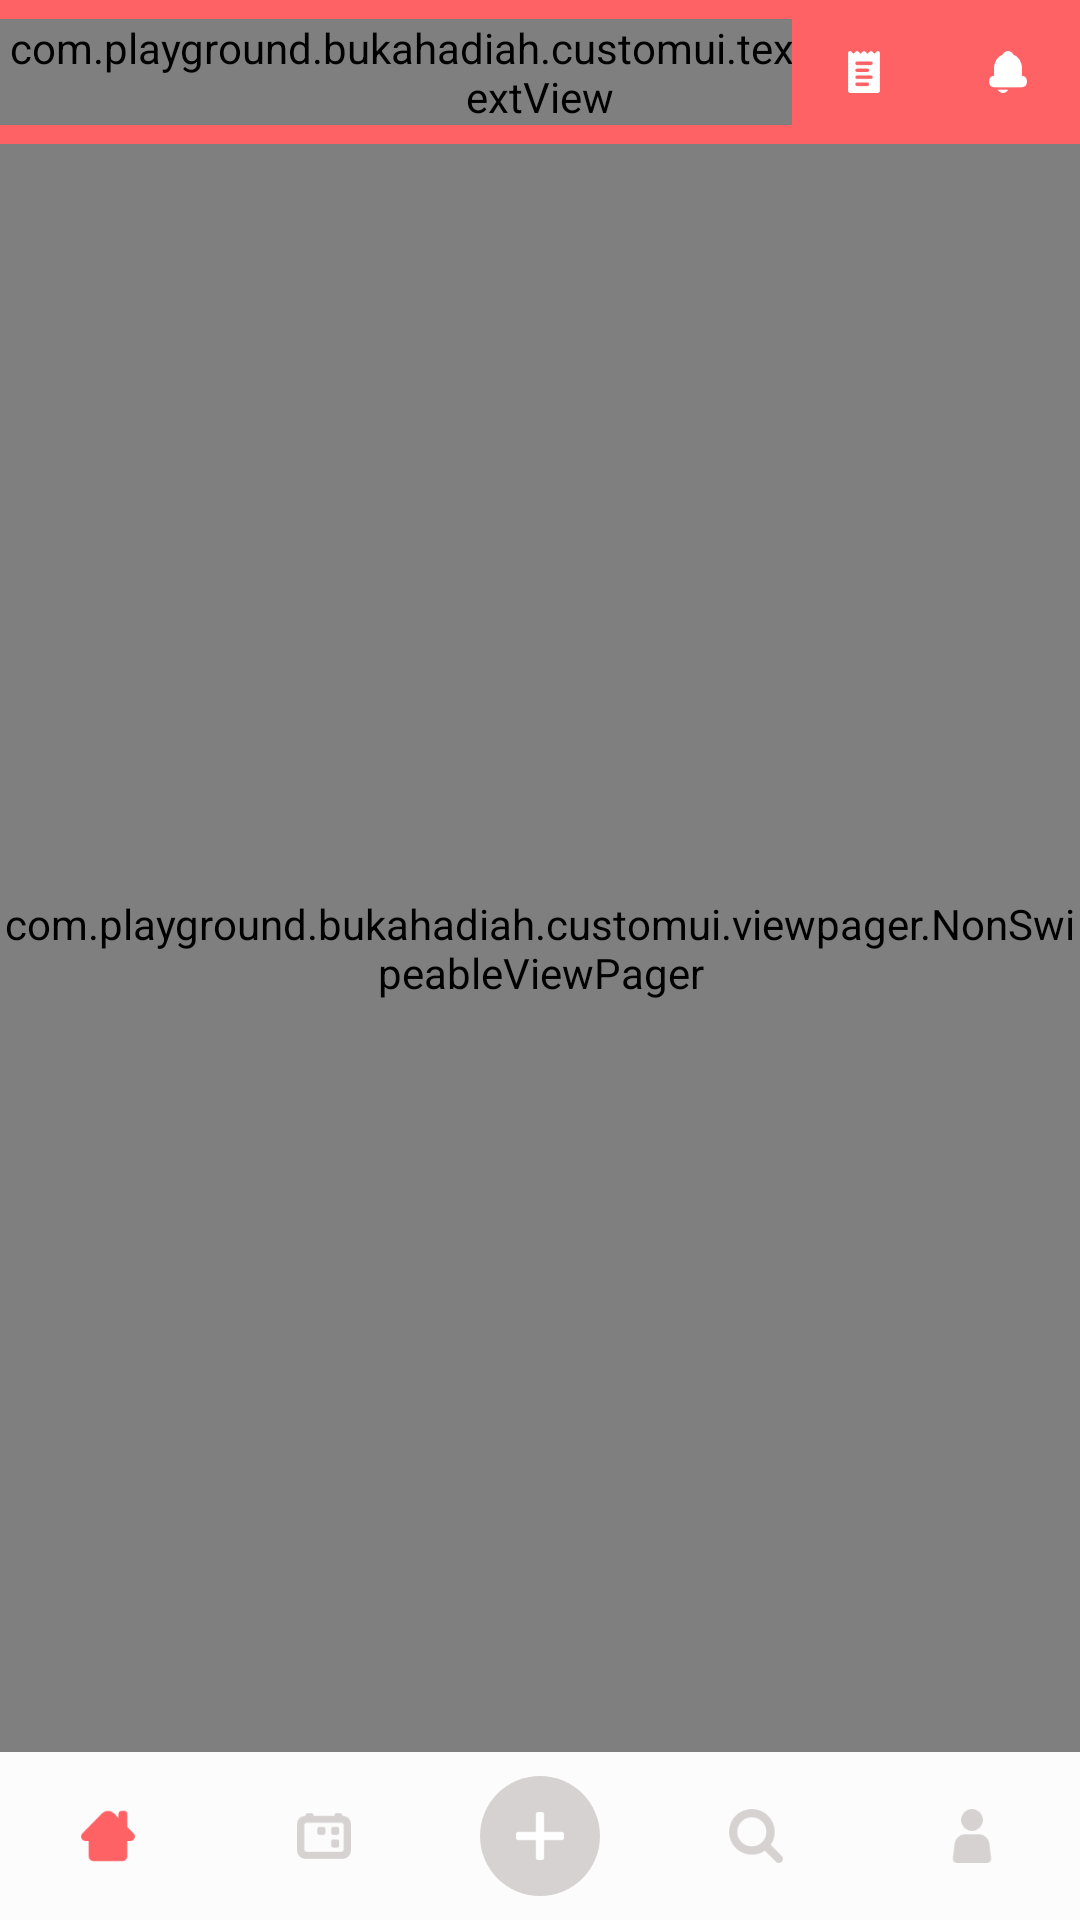

Icons on this 1080px×1920px Android screen, each with the point to tap as [x,y]:
add: [540,1836]
home: [108,1836]
invoice: [864,72]
notification: [1008,72]
search: [756,1836]
user: [972,1836]
